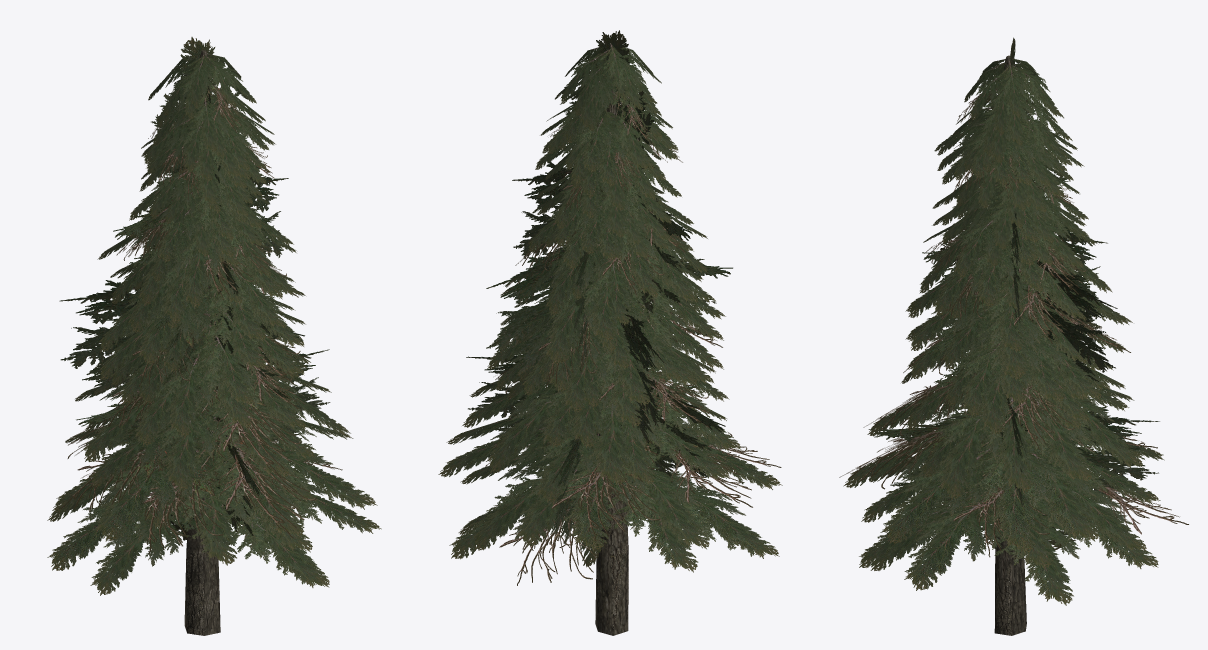
File: prpineA 1.FBX
3 renders of one model, left to right at view 1: azimuth 30°, elevation 25°; view 2: azimuth 150°, elevation 25°; view 3: azimuth 270°, elevation 25°, orthographic. The views are drawn at different scales.
Parts seen in each view (by area): view 1: pinetrunk; view 2: pinetrunk; view 3: pinetrunk.
Boxes of the visible parts, bbox=[...] form: pinetrunk: bbox=[47, 37, 381, 635]; pinetrunk: bbox=[438, 30, 782, 635]; pinetrunk: bbox=[839, 37, 1188, 635].
Bounding box in the file's own units: 3.45 × 6.21 × 3.43.
